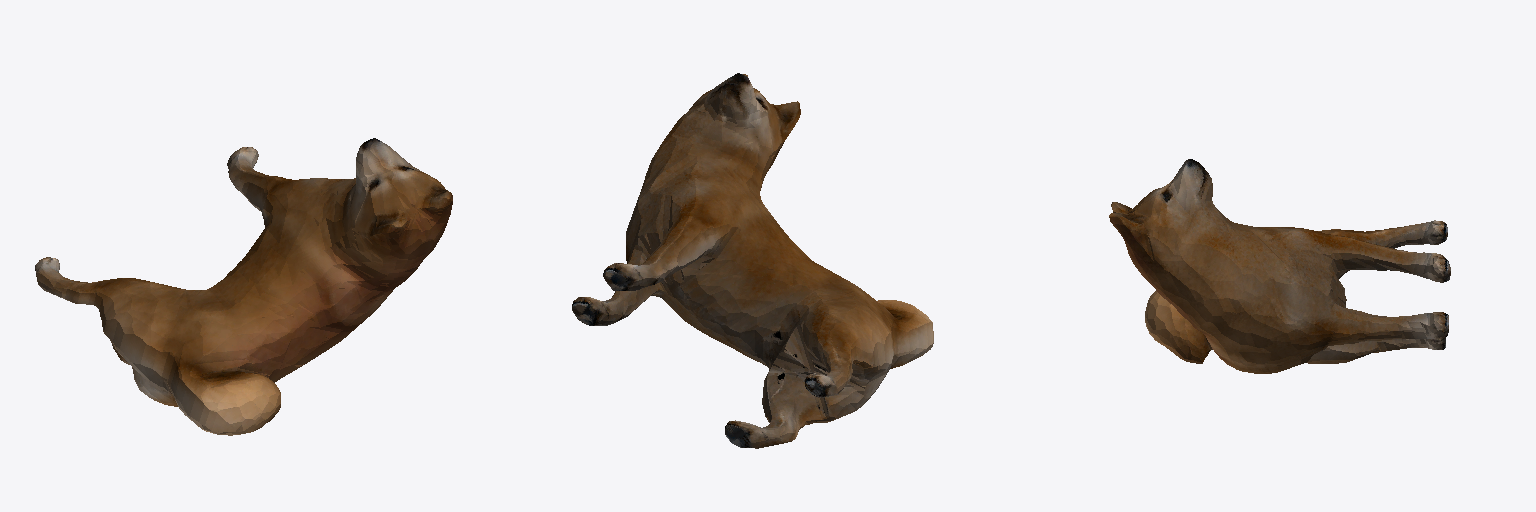
The picture shows the model from 3 angles: view 1: azimuth 30°, elevation 25°; view 2: azimuth 150°, elevation 25°; view 3: azimuth 270°, elevation 25°; orthographic projection.
Bounding box in the file's own units: 0.5012 × 0.439 × 0.5137.
Materials: 1 (1 with a texture image).